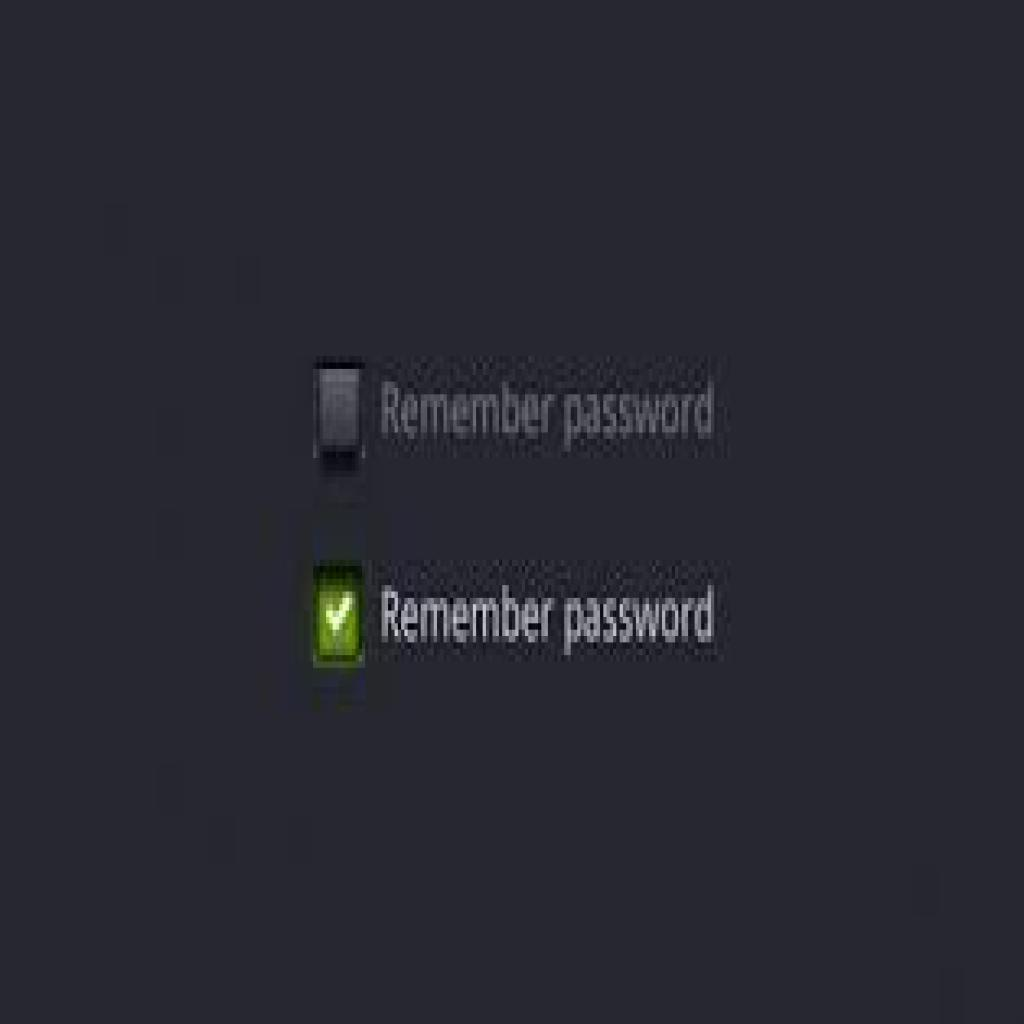checkbox: (314, 576, 360, 661), (317, 373, 363, 456)
